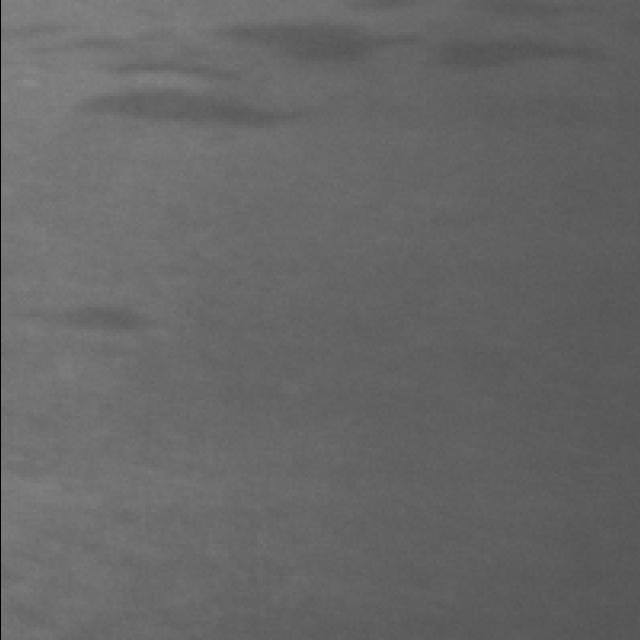inclusion: (91, 80, 311, 137), (1, 290, 167, 362), (419, 26, 626, 80), (229, 16, 409, 78)
